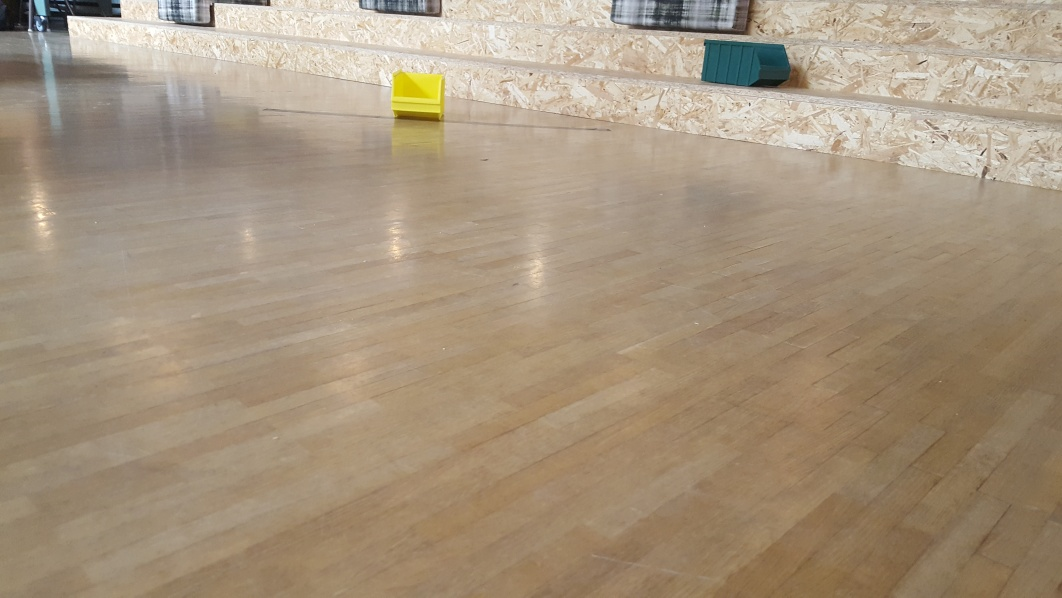tray: (685, 36, 793, 89), (385, 65, 445, 119)
